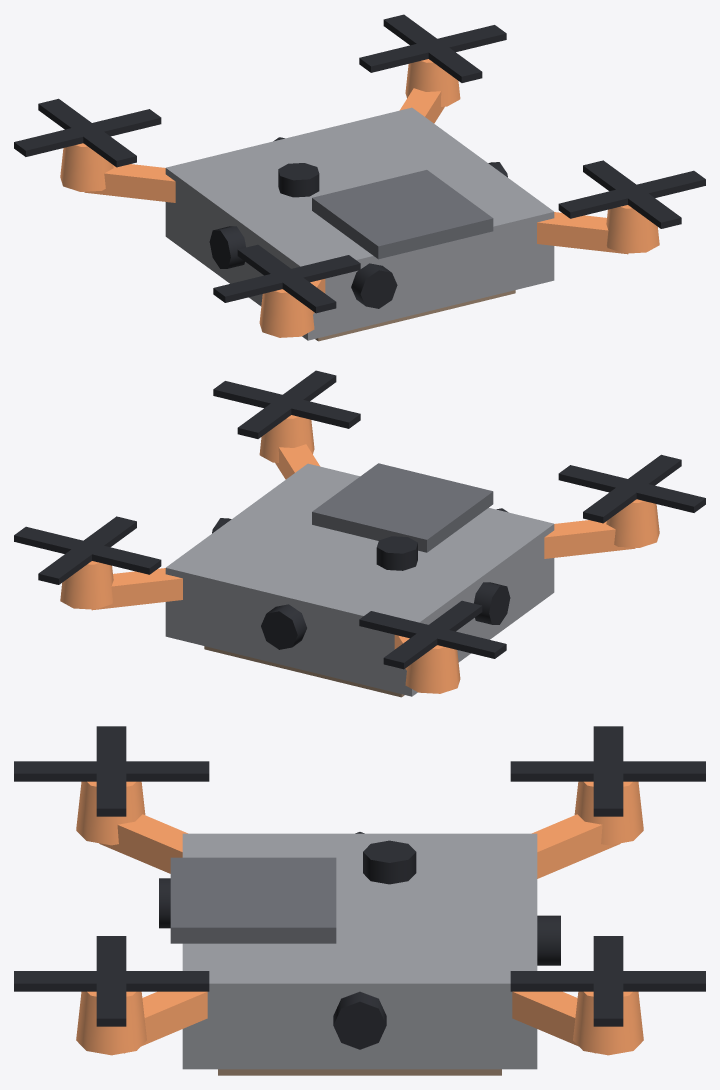
File: build_drone_small.glb
The picture shows the model from 3 angles, top to bottom: view 1: azimuth 30°, elevation 25°; view 2: azimuth 150°, elevation 25°; view 3: azimuth 270°, elevation 25°; orthographic projection. The views are drawn at different scales.
Parts seen in each view (by area): view 1: Baked, _MeshInstance3D_689, _MeshInstance3D_685, _MeshInstance3D_681, _MeshInstance3D_677, _MeshInstance3D_680, _MeshInstance3D_684, _MeshInstance3D_676, _MeshInstance3D_688, Dial2, Dial4, Dial3; view 2: Baked, _MeshInstance3D_681, _MeshInstance3D_677, _MeshInstance3D_689, _MeshInstance3D_685, _MeshInstance3D_688, _MeshInstance3D_676, _MeshInstance3D_684, _MeshInstance3D_680, Dial0, Dial4, Dial3; view 3: Baked, _MeshInstance3D_680, _MeshInstance3D_688, _MeshInstance3D_684, _MeshInstance3D_676, _MeshInstance3D_685, _MeshInstance3D_677, _MeshInstance3D_689, _MeshInstance3D_681, Dial1, Dial4, Dial0 (+1 smaller).
Boxes of the visible parts, x1,y1,x2,y2 form: Baked: (60, 59, 659, 341); _MeshInstance3D_689: (558, 170, 705, 218); _MeshInstance3D_685: (213, 255, 360, 302); _MeshInstance3D_681: (359, 25, 506, 72); _MeshInstance3D_677: (14, 109, 161, 156); _MeshInstance3D_680: (383, 14, 482, 82); _MeshInstance3D_684: (237, 244, 336, 313); _MeshInstance3D_676: (38, 98, 136, 167); _MeshInstance3D_688: (583, 160, 681, 228); Dial2: (351, 263, 397, 308); Dial4: (278, 163, 319, 197); Dial3: (209, 226, 245, 268); Baked: (60, 415, 659, 697); _MeshInstance3D_681: (14, 526, 161, 574); _MeshInstance3D_677: (359, 611, 506, 658); _MeshInstance3D_689: (213, 381, 360, 428); _MeshInstance3D_685: (558, 465, 705, 512); _MeshInstance3D_688: (237, 370, 336, 438); _MeshInstance3D_676: (383, 600, 482, 669); _MeshInstance3D_684: (583, 454, 681, 523); _MeshInstance3D_680: (38, 516, 136, 584); Dial0: (261, 604, 306, 649); Dial4: (376, 536, 417, 570); Dial3: (474, 582, 510, 624); Baked: (76, 781, 643, 1075); _MeshInstance3D_680: (510, 971, 705, 991); _MeshInstance3D_688: (14, 971, 209, 991); _MeshInstance3D_684: (14, 761, 209, 781); _MeshInstance3D_676: (510, 761, 705, 781); _MeshInstance3D_685: (96, 726, 126, 816); _MeshInstance3D_677: (593, 726, 623, 816); _MeshInstance3D_689: (96, 936, 126, 1026); _MeshInstance3D_681: (593, 936, 623, 1026); Dial1: (333, 991, 386, 1049); Dial4: (363, 840, 416, 884); Dial0: (537, 915, 560, 965).
Bounding box in the file's own units: 1.17 × 0.2675 × 1.17.
